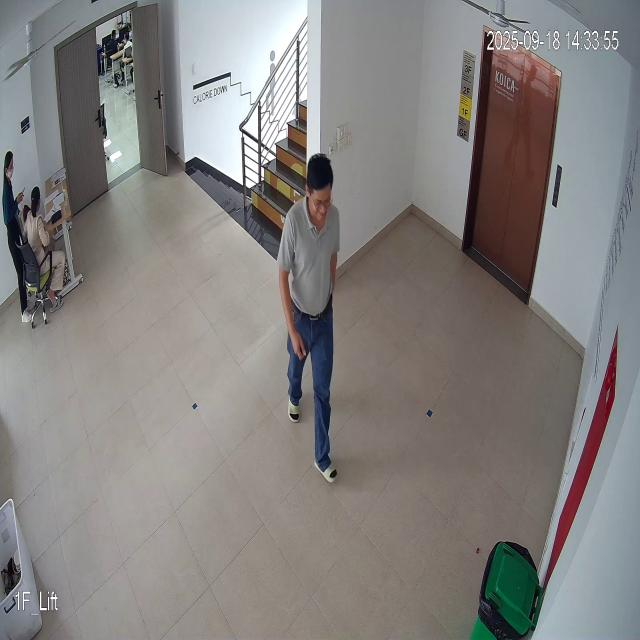face: (304, 156, 334, 231)
